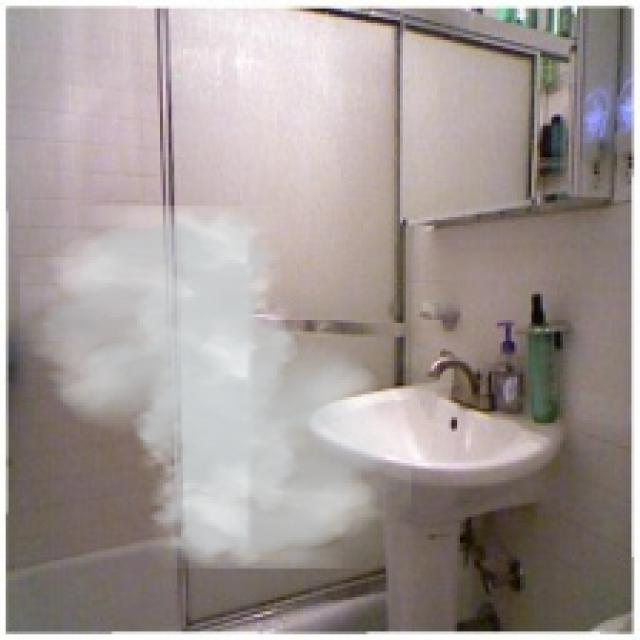smoke: (20, 206, 411, 568)
